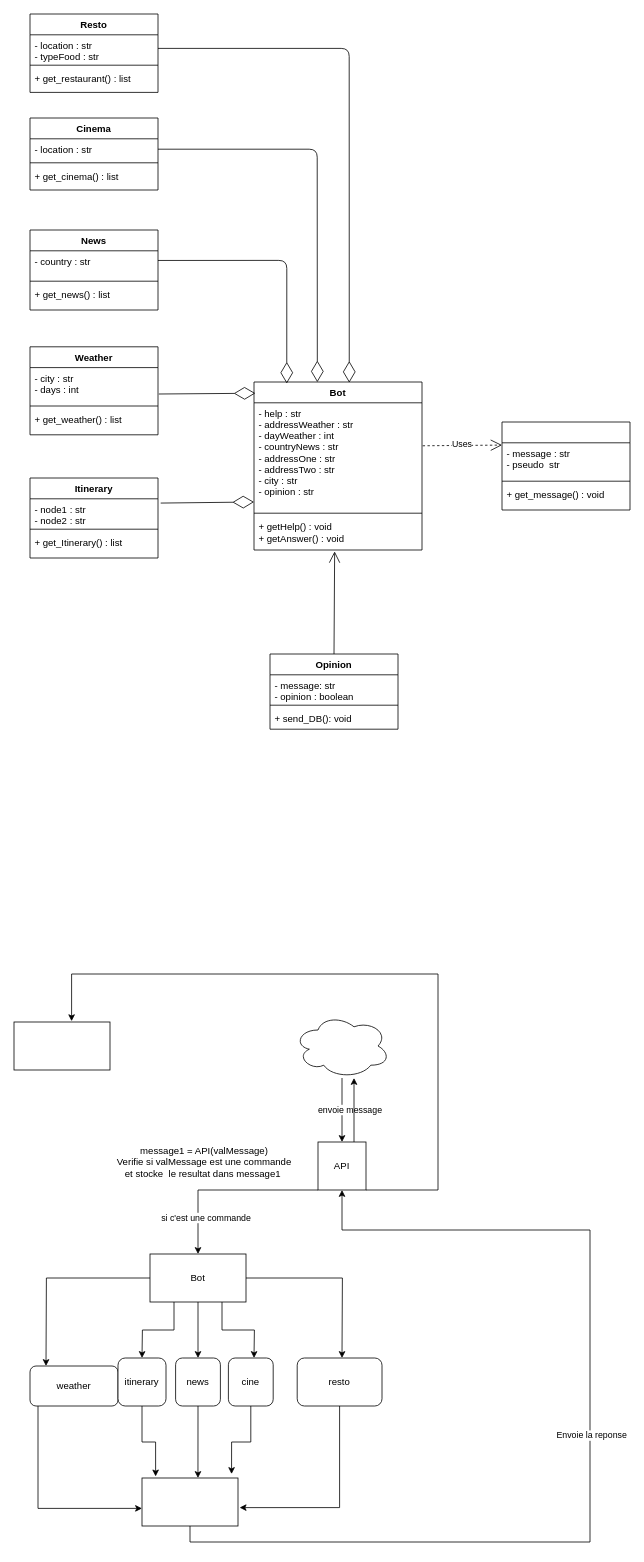
Image size: 644x1562. Some labels were removed from this diagram. Here are the shapes that lost their labels. From the top down, the box of each, then its label:
(501, 421, 630, 510): Request
(13, 1021, 110, 1070): Interface graphique
(293, 1013, 390, 1078): Noyau
(141, 1477, 238, 1526): Reponse
